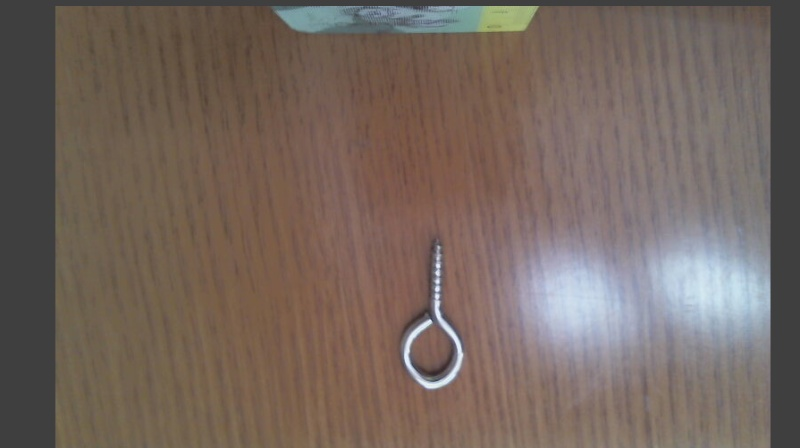O001: (393, 234, 470, 396)
